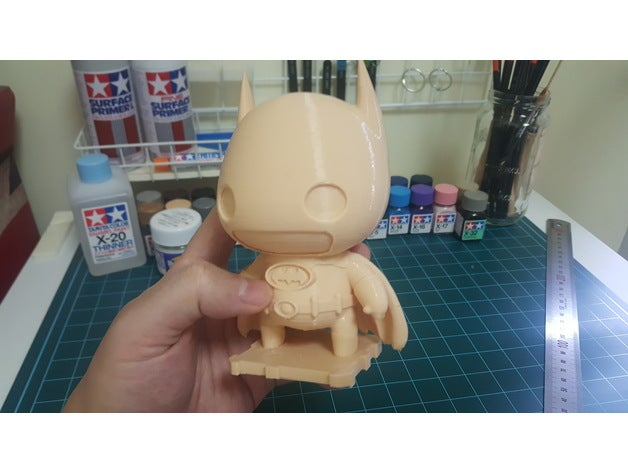Good: (206, 64, 429, 397)
